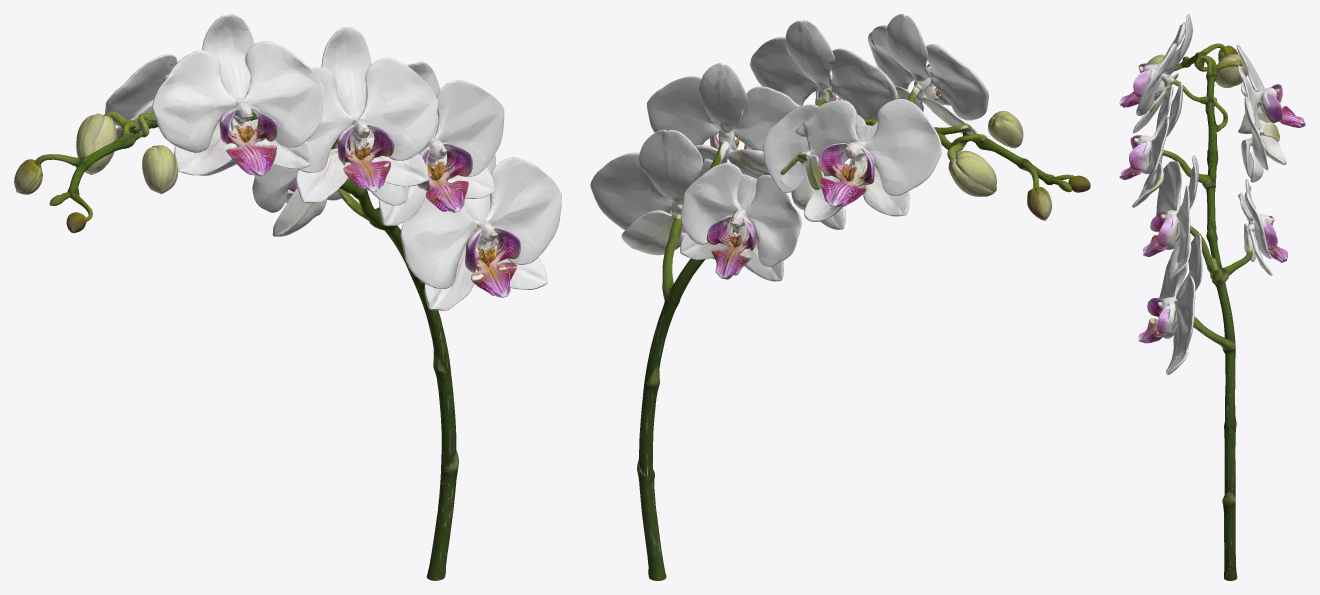
File: orchid.glb
The picture shows the model from 3 angles, left to right: view 1: azimuth 30°, elevation 25°; view 2: azimuth 150°, elevation 25°; view 3: azimuth 270°, elevation 25°; orthographic projection. The views are drawn at different scales.
Visible parts, largest first — view 1: Mesh_0; view 2: Mesh_0; view 3: Mesh_0.
Part boxes in pixels (left/top/right/bottom): Mesh_0: left=14, top=14, right=561, bottom=580; Mesh_0: left=590, top=14, right=1090, bottom=580; Mesh_0: left=1119, top=14, right=1305, bottom=580.
Size of the model in its own units: 1.61 by 1.9 by 0.6735.
Materials: 1 (1 with a texture image).
